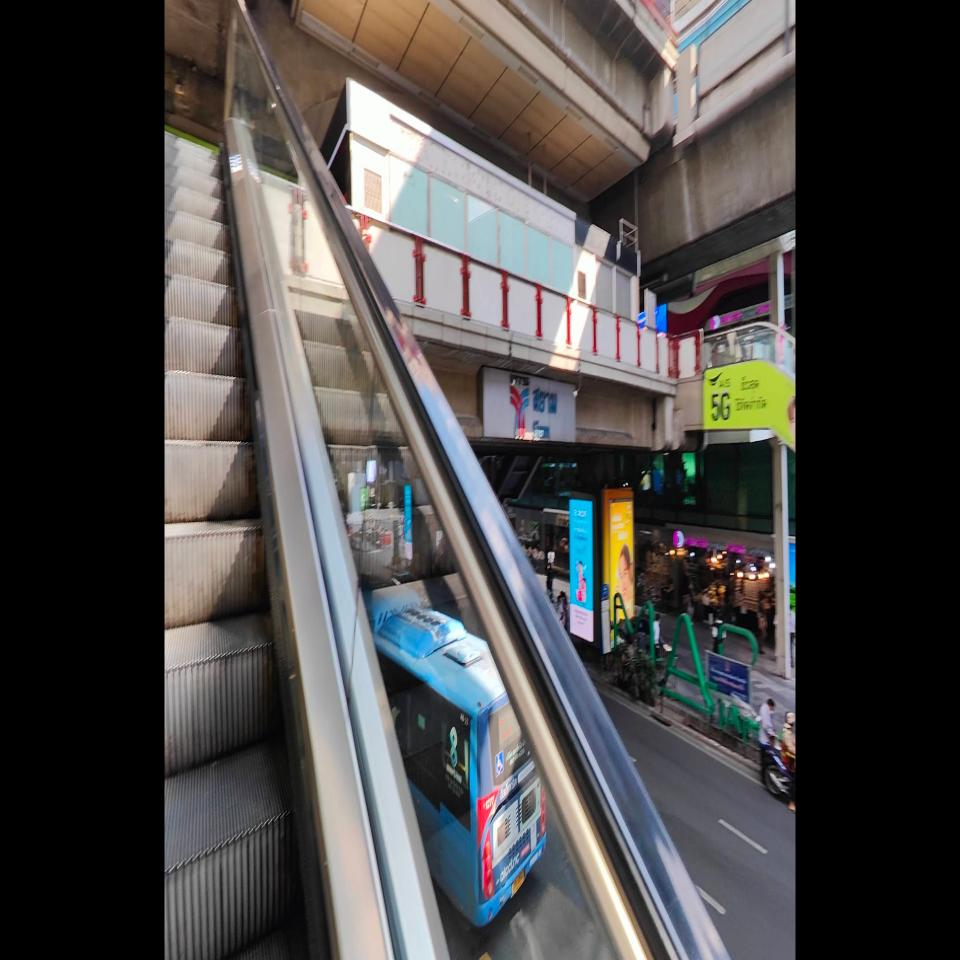Siam: (510, 372, 558, 440), (532, 386, 558, 440)
